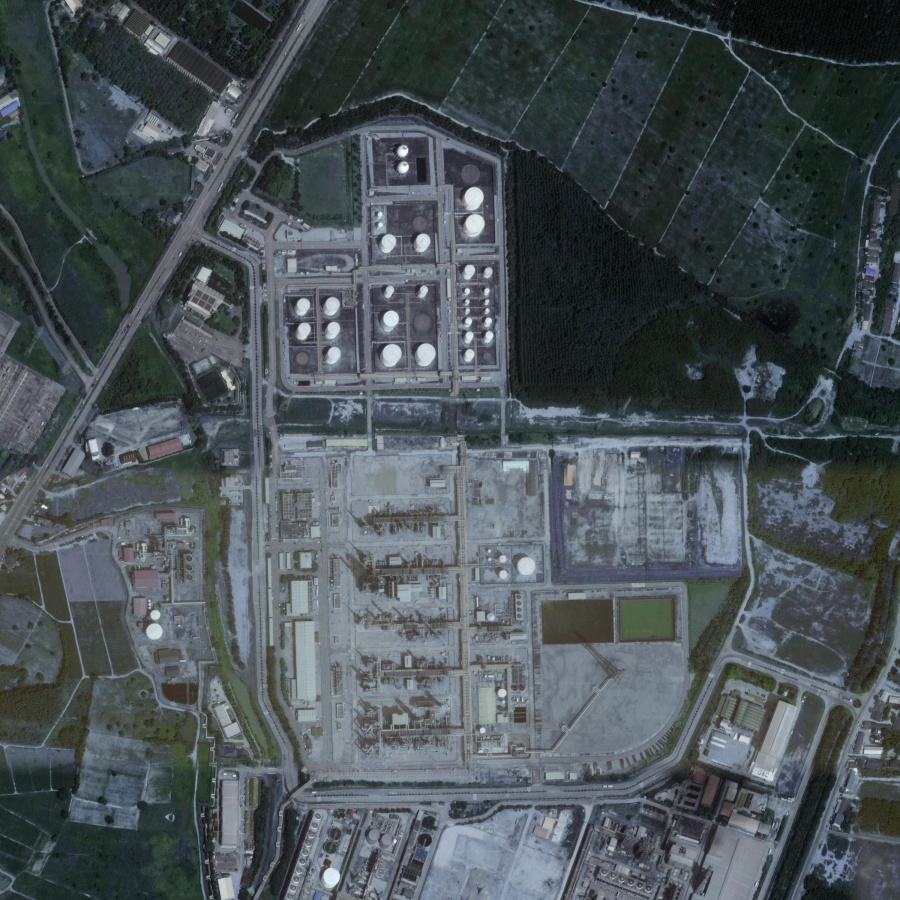PowerPlant: (231, 122, 509, 405), (343, 485, 537, 673)
